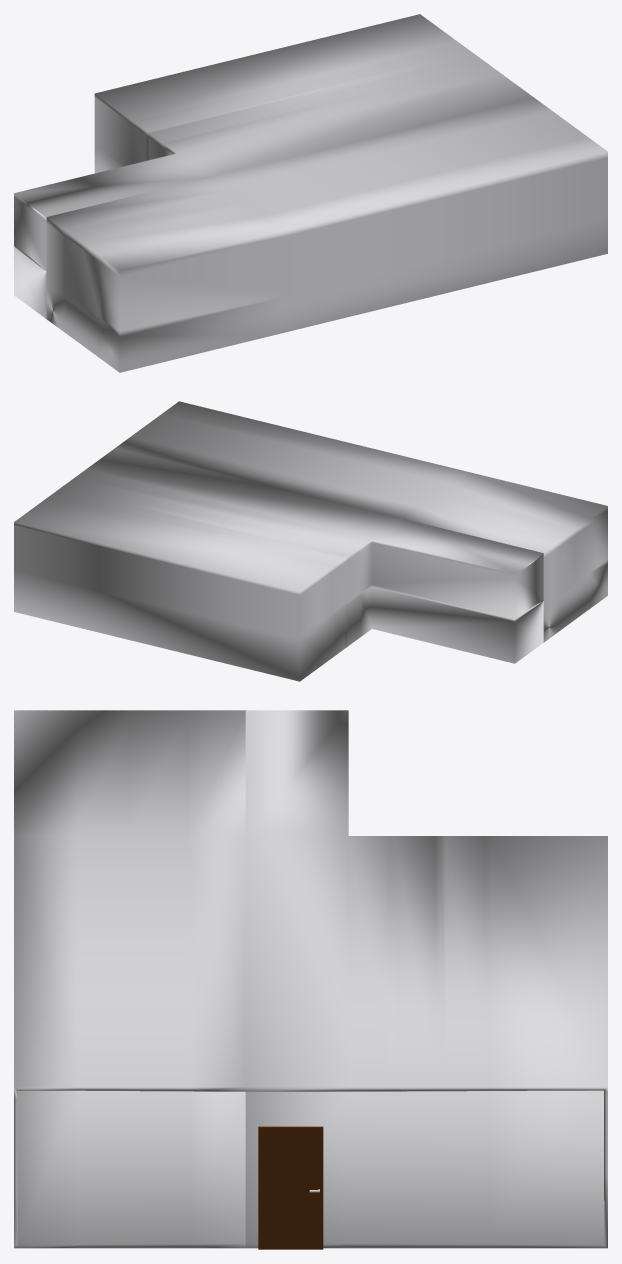
File: House3.fbx
3 views of the same model, one above another, from view 1: azimuth 30°, elevation 25°; view 2: azimuth 150°, elevation 25°; view 3: azimuth 270°, elevation 25° (orthographic). The views are drawn at different scales.
Visible parts, largest first — view 1: Plane.010; view 2: Plane.010; view 3: Plane.010, Plane.018.
Boxes of the visible parts, bbox=[...] form: Plane.010: bbox=[14, 14, 607, 372]; Plane.010: bbox=[14, 401, 607, 681]; Plane.010: bbox=[14, 710, 607, 1248]; Plane.018: bbox=[258, 1126, 323, 1249].
Size of the model in its own units: 4146 by 824 by 2745.
